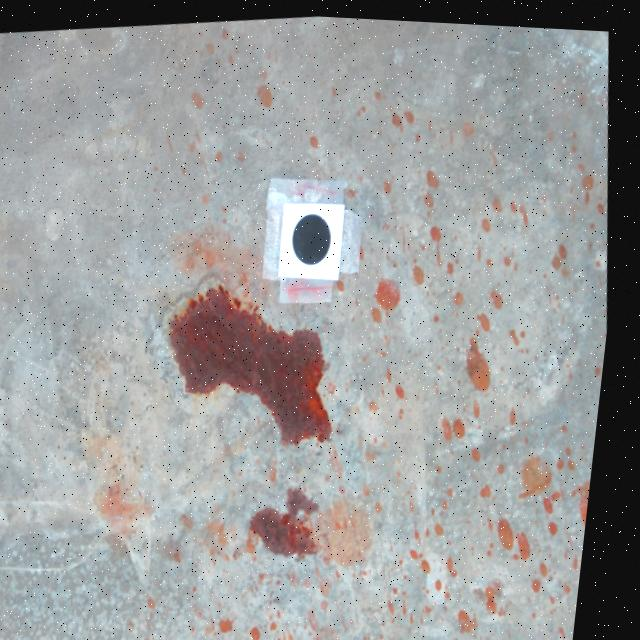corrosion: (177, 282, 340, 440), (260, 483, 329, 553)
